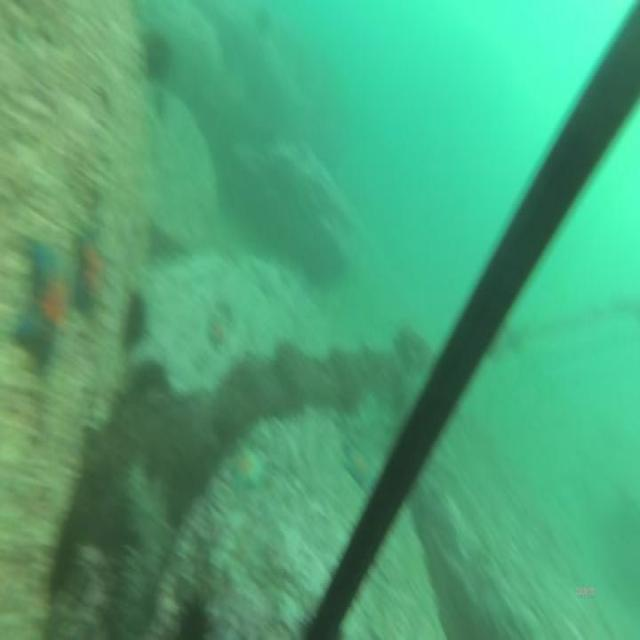echinus: (121, 286, 147, 351), (175, 591, 208, 640), (141, 30, 168, 77)
starfish: (7, 230, 75, 374), (68, 218, 106, 332), (344, 431, 381, 498), (228, 435, 266, 496), (204, 308, 226, 356)
